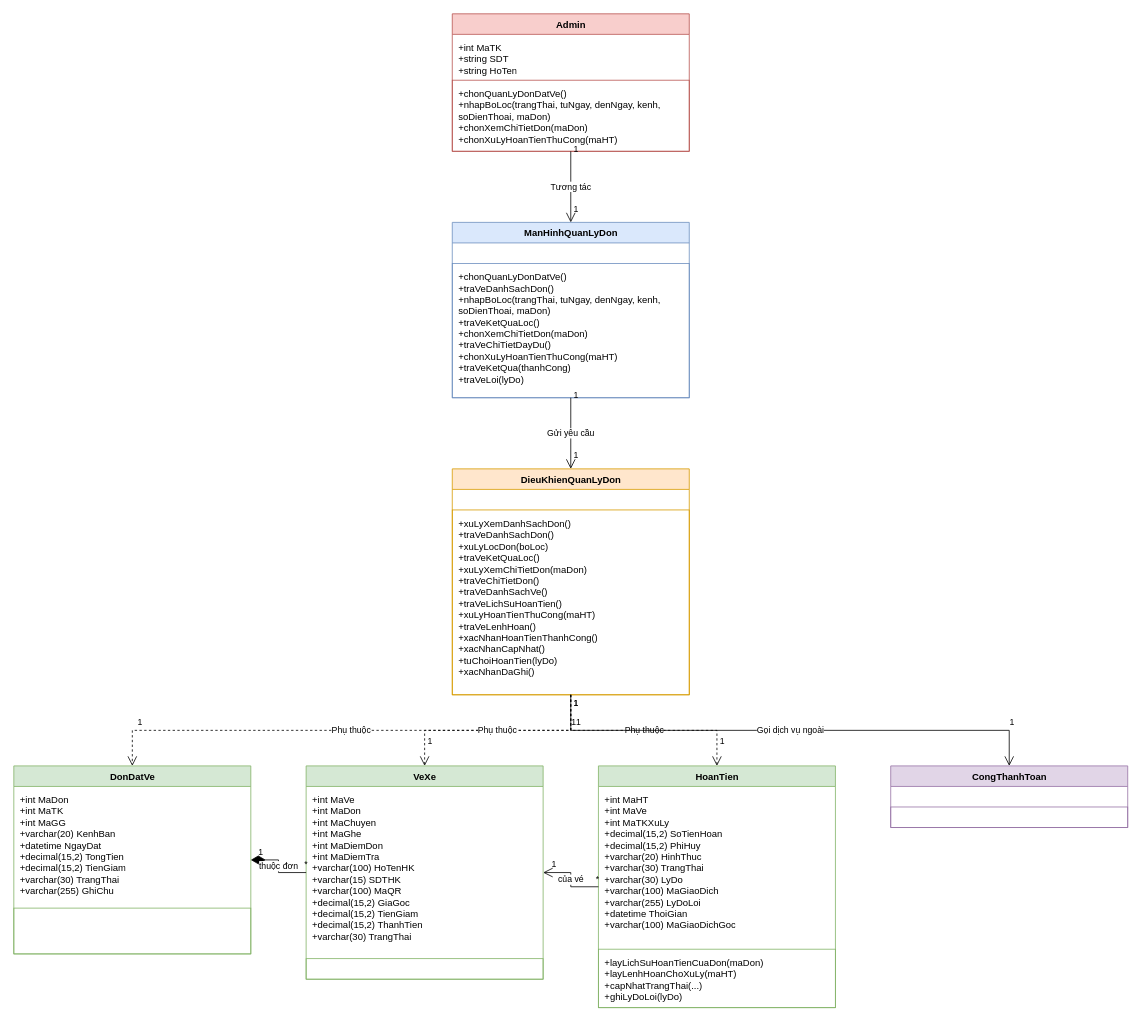
Some shapes in this 1142 by 1024 pixel diagram are drawn without their labels. Here are the shapes that lost their labels. From the top down, the centre of each, then its label:
At (x=1009, y=817): "+yeuCauHoanTien(maVe, soTienHoan)".
At (x=132, y=930): "+layDanhSachDon() +timDon(boLoc) +layChiTietDon(maDon)".
At (x=424, y=968): "+layDanhSachVeCuaDon(maDon)".
